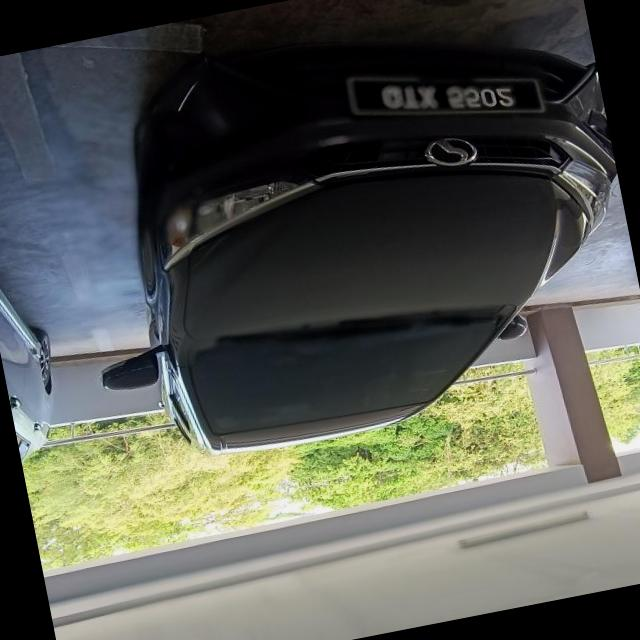PeroduaBezza: (44, 0, 640, 482)
